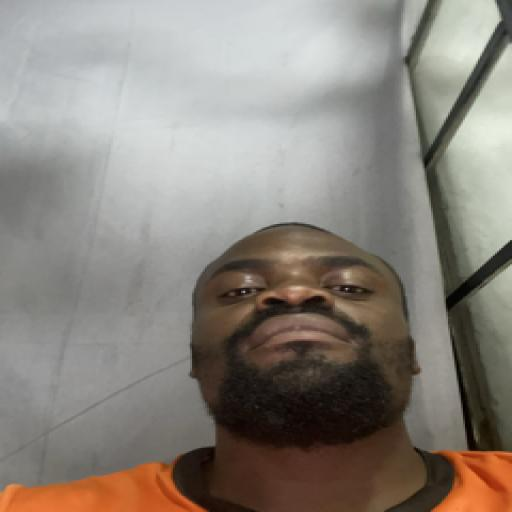JEANLUC: (180, 198, 432, 467)
